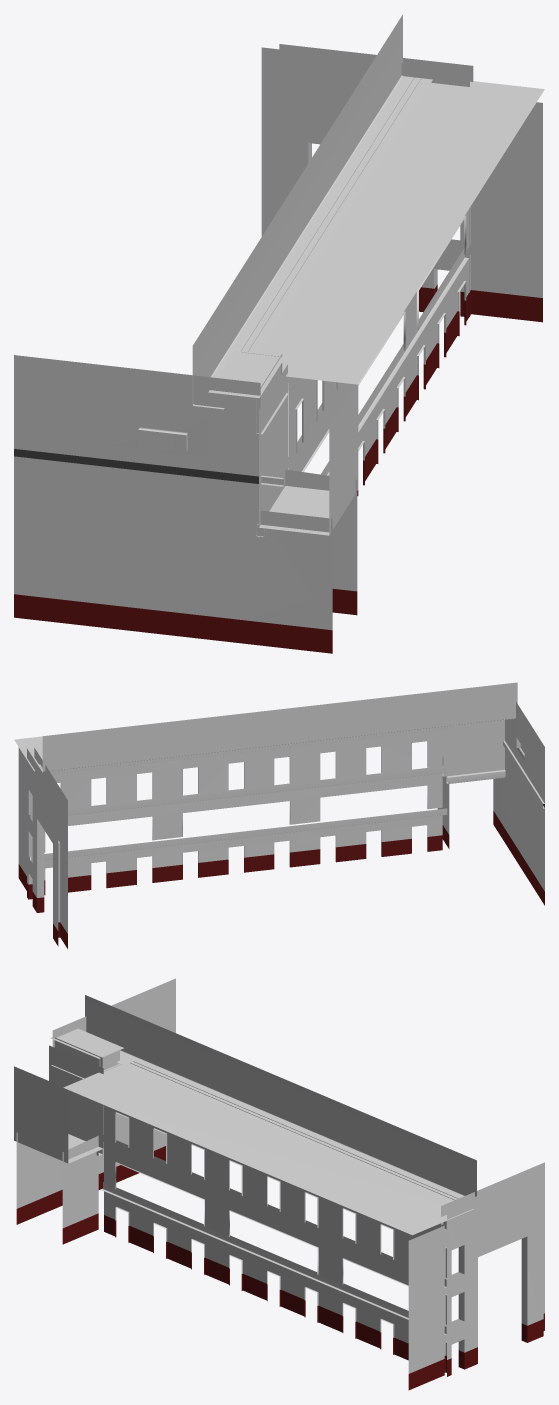
Rendered from SM_H_Building_Tide_Jail_D_01a_ATLAS.fbx.
3 renders of one model, top to bottom at view 1: azimuth 30°, elevation 25°; view 2: azimuth 150°, elevation 25°; view 3: azimuth 270°, elevation 25°, orthographic. The views are drawn at different scales.
Parts seen in each view (by area): view 1: SM_H_Building_Tide_Jail_D_01a_ATLAS; view 2: SM_H_Building_Tide_Jail_D_01a_ATLAS; view 3: SM_H_Building_Tide_Jail_D_01a_ATLAS.
Part boxes in pixels (x1,y1,x2,y2): SM_H_Building_Tide_Jail_D_01a_ATLAS: [14, 14, 544, 653]; SM_H_Building_Tide_Jail_D_01a_ATLAS: [14, 682, 544, 948]; SM_H_Building_Tide_Jail_D_01a_ATLAS: [14, 978, 544, 1390].
Bounding box in the file's own units: 5644 × 5399 × 2249.
